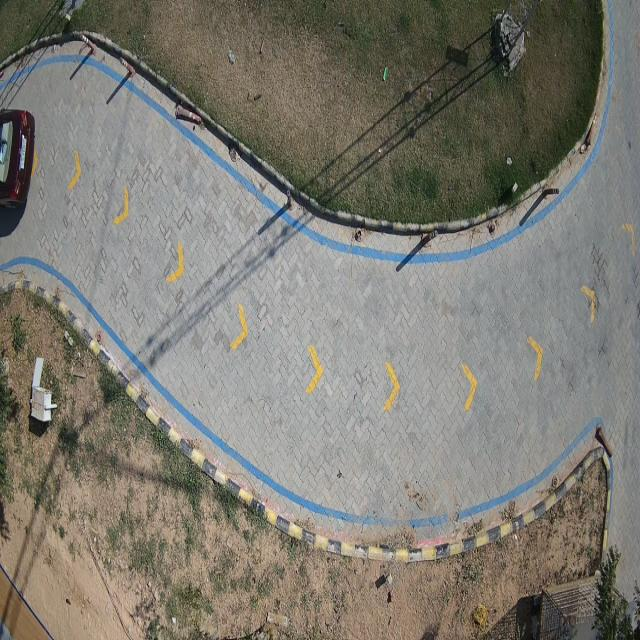car: (0, 109, 35, 207)
